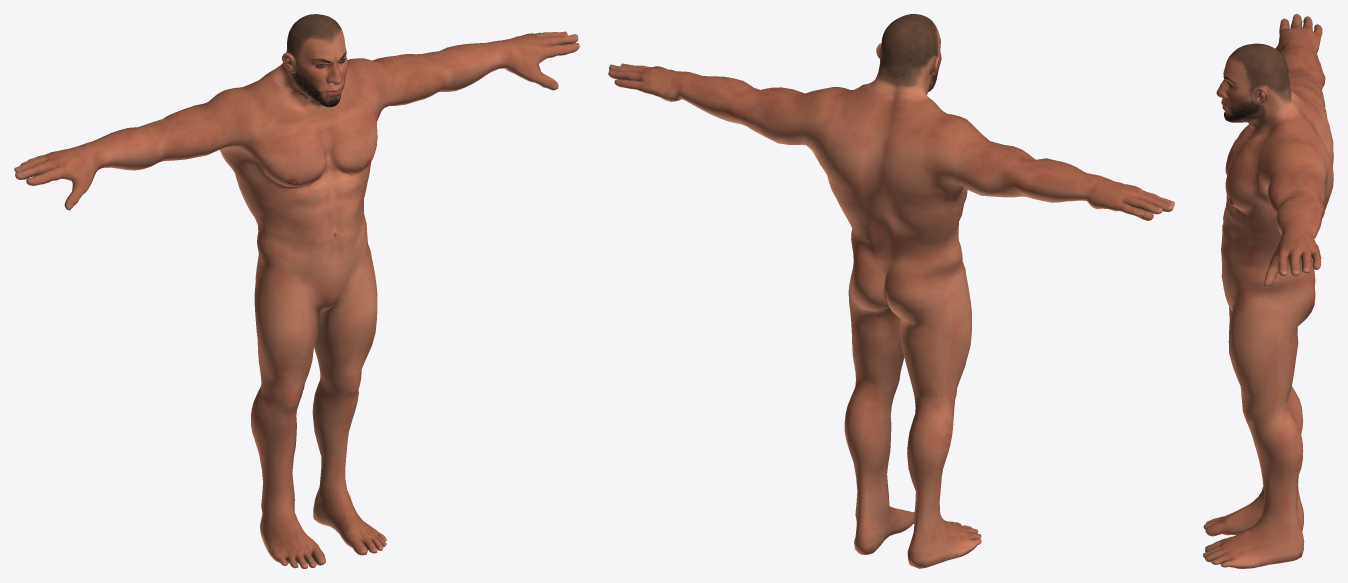
The model's file is Male1_Tex.fbx.
The picture shows the model from 3 angles, left to right: view 1: azimuth 30°, elevation 25°; view 2: azimuth 150°, elevation 25°; view 3: azimuth 270°, elevation 25°; orthographic projection. The views are drawn at different scales.
Parts seen in each view (by area): view 1: Male1; view 2: Male1; view 3: Male1.
Boxes of the visible parts, x1,y1,x2,y2 form: Male1: (14,14,579,568); Male1: (608,14,1174,568); Male1: (1203,14,1333,568).
Size of the model in its own units: 2.01 by 1.8 by 0.4262.
